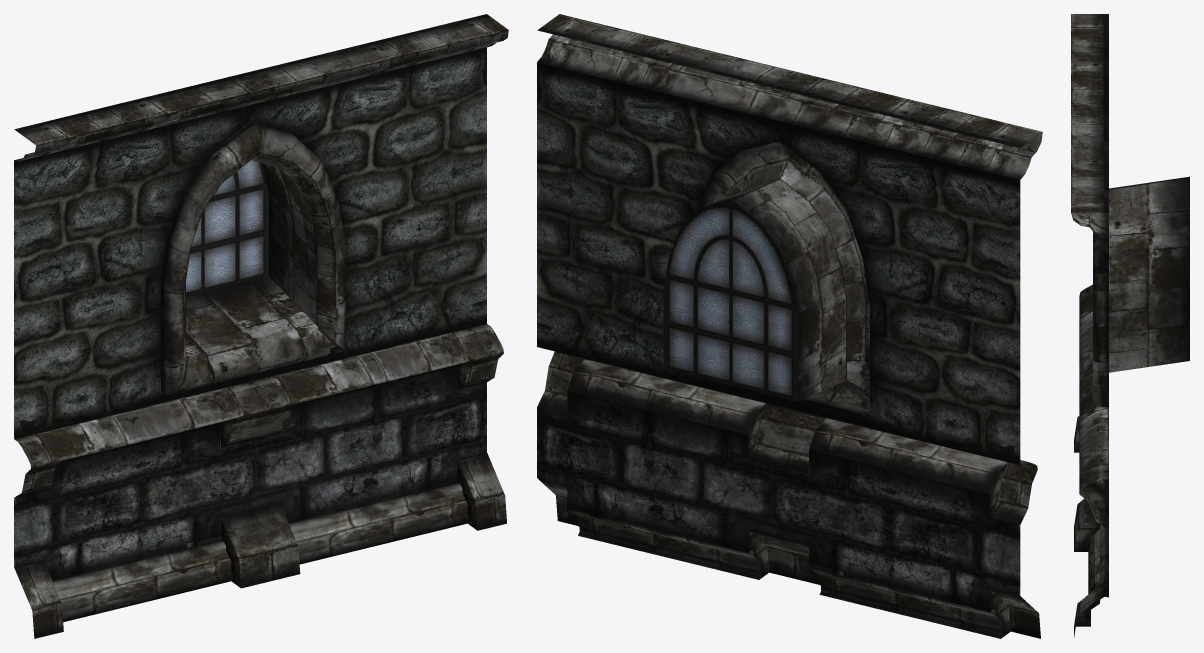
The model's file is window_blue.dae.
The picture shows the model from 3 angles, left to right: view 1: azimuth 30°, elevation 25°; view 2: azimuth 150°, elevation 25°; view 3: azimuth 270°, elevation 25°; orthographic projection. The views are drawn at different scales.
Visible parts, largest first — view 1: polySurface105, polySurface102; view 2: polySurface105, polySurface102; view 3: polySurface105.
Part boxes in pixels (x1=…): polySurface105: x1=14, y1=14, x2=508, y2=638; polySurface102: x1=186, y1=160, x2=268, y2=296; polySurface105: x1=537, y1=14, x2=1042, y2=638; polySurface102: x1=663, y1=200, x2=797, y2=401; polySurface105: x1=1071, y1=14, x2=1189, y2=637.
Bounding box in the file's own units: 4 × 4 × 1.01.
